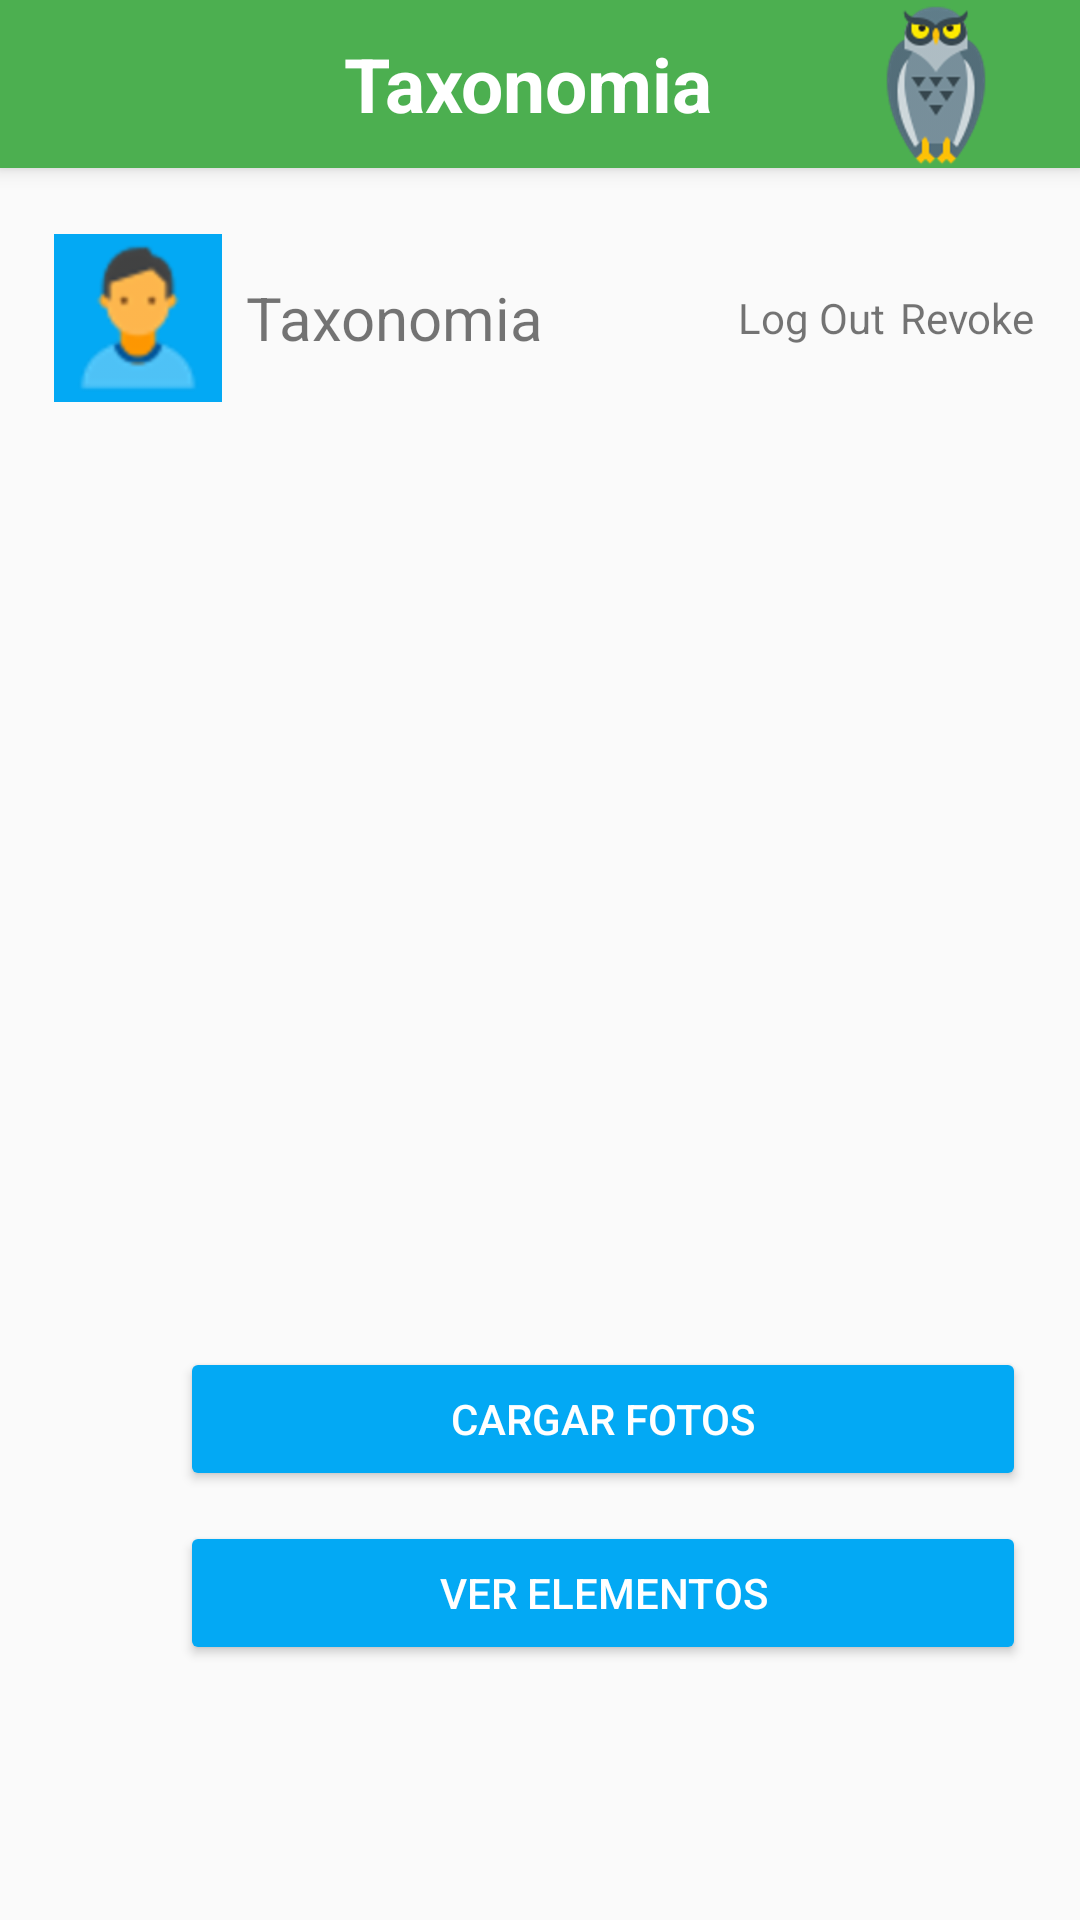

Screen size 1080px x 1920px. Icon name, then its center in pixels as [x,y]:
aves: [936,85]
